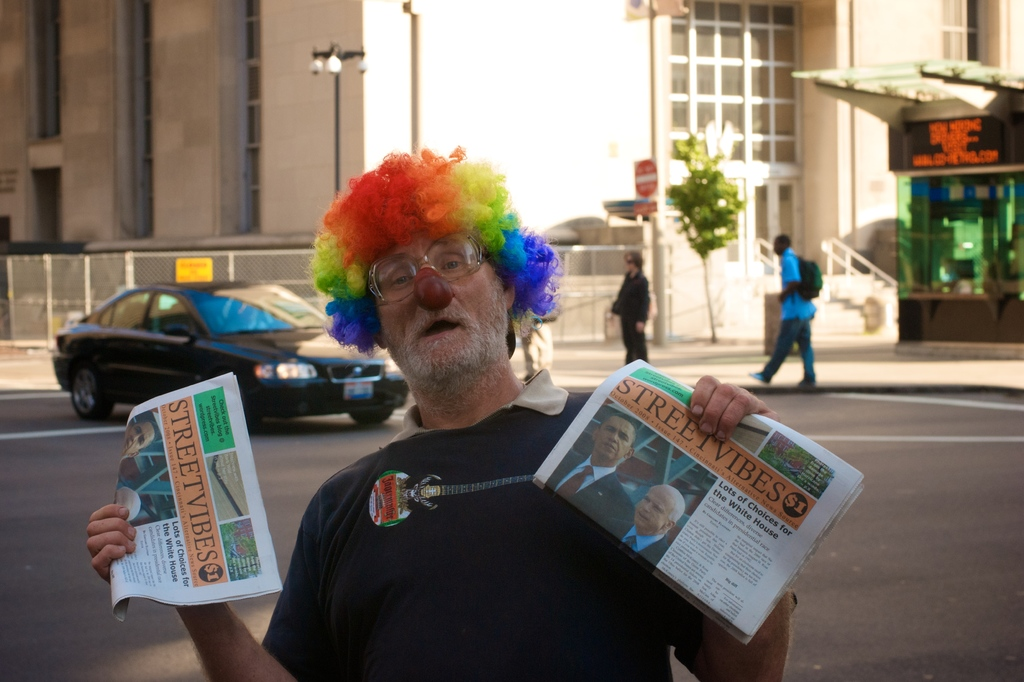mobil: (56, 274, 406, 449)
